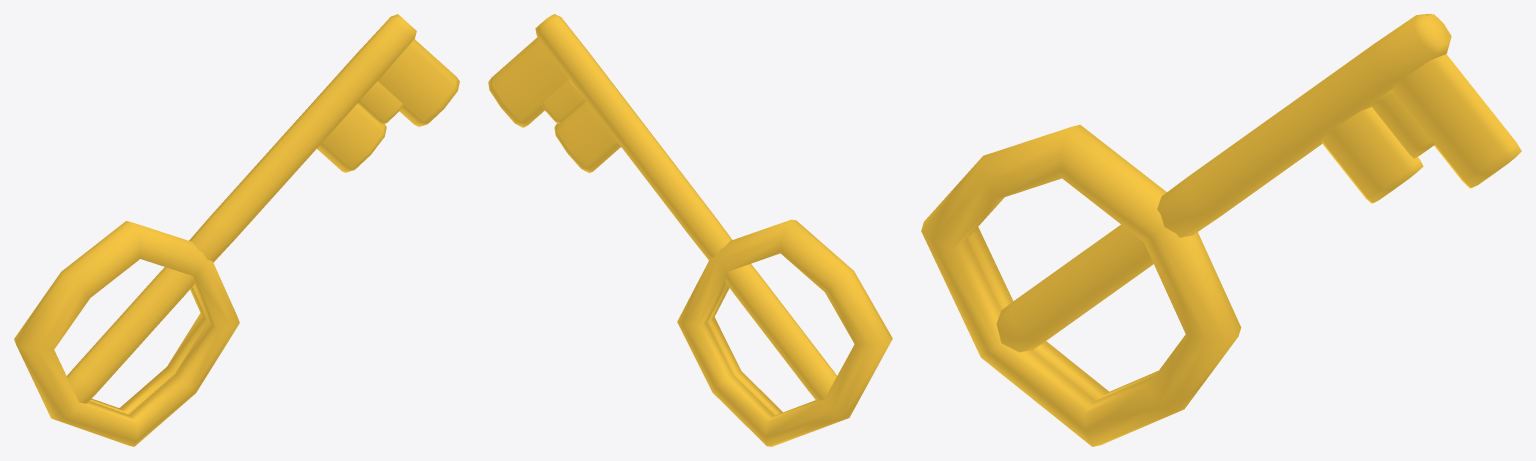
File: accessory-key.glb
The picture shows the model from 3 angles, left to right: view 1: azimuth 30°, elevation 25°; view 2: azimuth 150°, elevation 25°; view 3: azimuth 330°, elevation 25°; orthographic projection. The views are drawn at different scales.
Visible parts, largest first — view 1: accessory__Cube_001__0; view 2: accessory__Cube_001__0; view 3: accessory__Cube_001__0.
Boxes of the visible parts, <box> form: accessory__Cube_001__0: <box>14,14,459,446</box>; accessory__Cube_001__0: <box>488,14,892,446</box>; accessory__Cube_001__0: <box>921,14,1521,446</box>.
Bounding box in the file's own units: 0.9152 × 0.767 × 0.1225.
